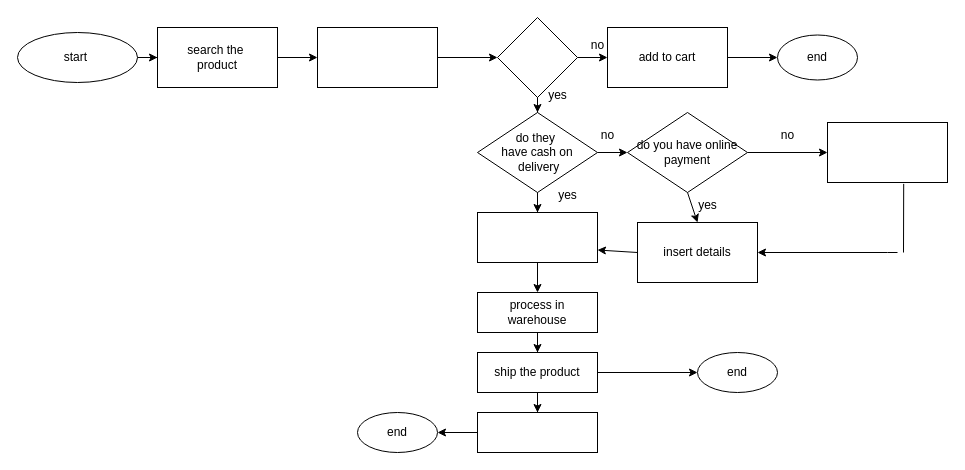
Image size: 965x470. Some labels were removed from this diagram. Here are the shapes that lost their labels. From the top down, the box of each, then its label:
(316, 26, 438, 88): slelct one product
(496, 16, 578, 98): are yout going buy it now?
(826, 122, 948, 182): select credit card option
(476, 212, 598, 262): place the order
(476, 412, 598, 452): collect money
